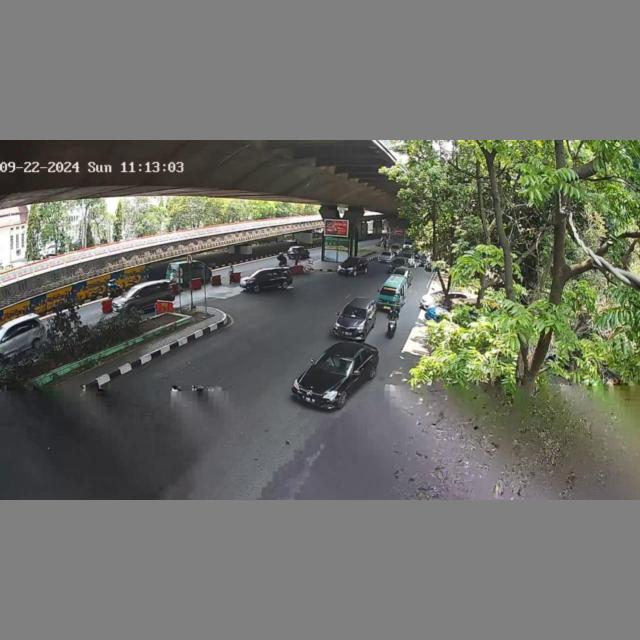windshield: (313, 351, 356, 374), (342, 307, 366, 320), (380, 287, 400, 296)
